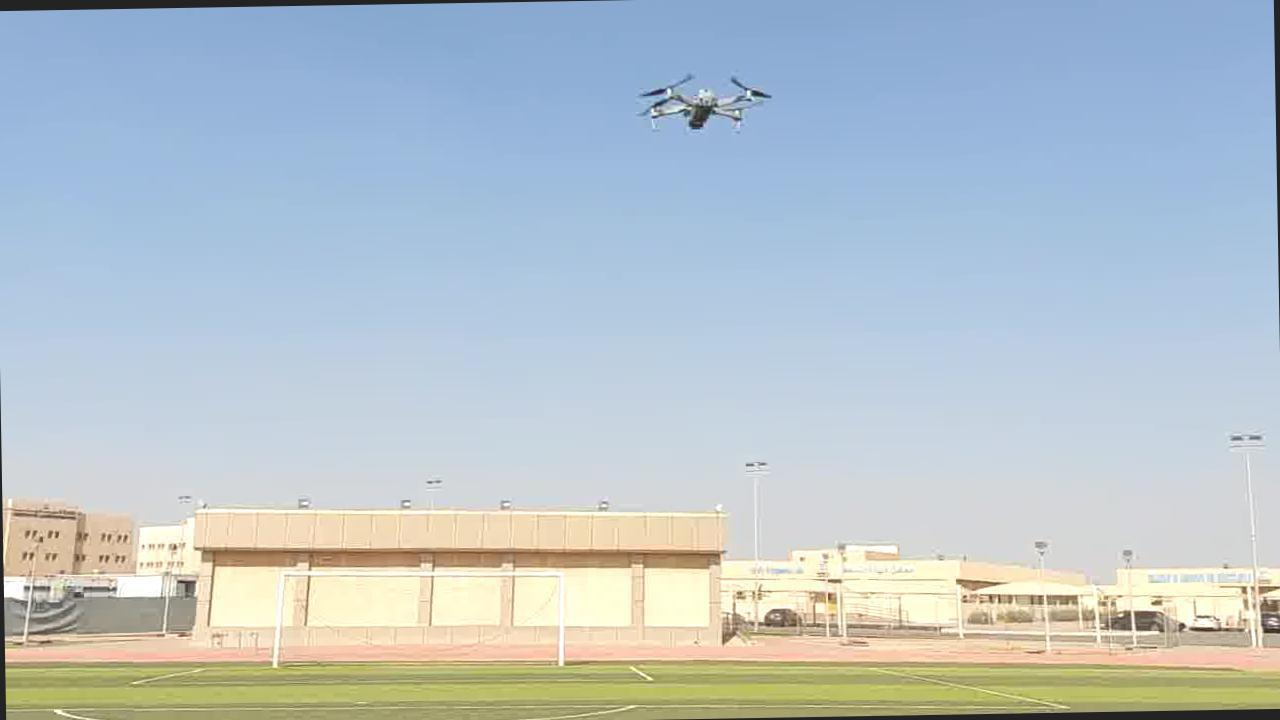drone: (628, 57, 780, 141)
